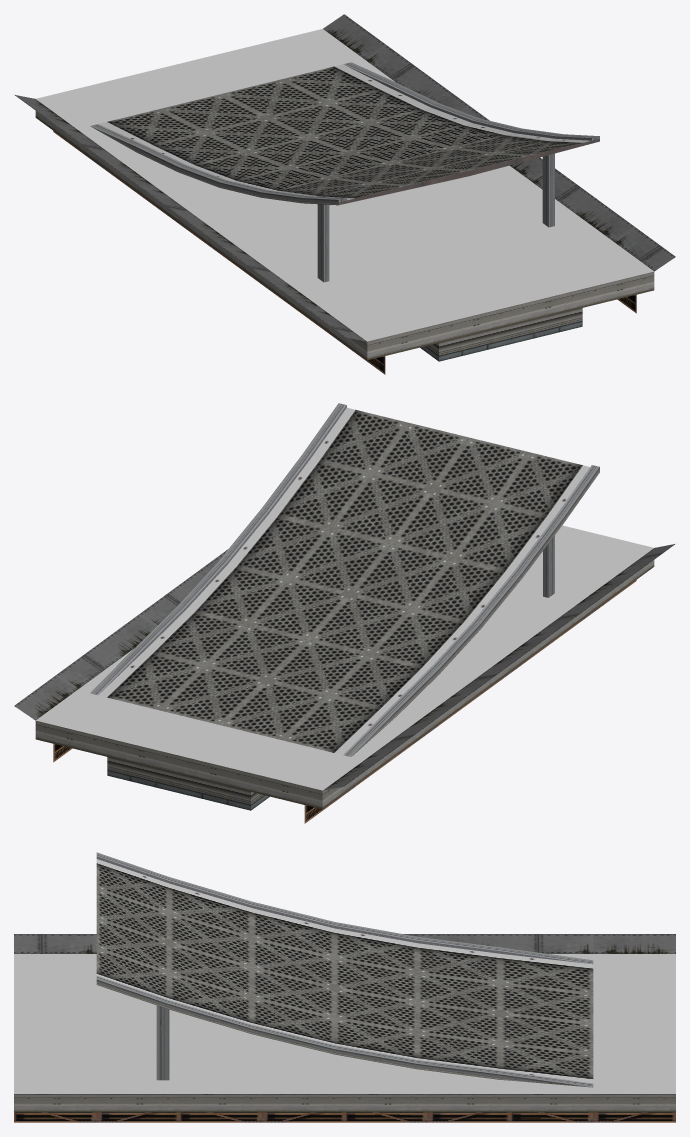
Rendered from Jump01.fbx.
The picture shows the model from 3 angles, top to bottom: view 1: azimuth 30°, elevation 25°; view 2: azimuth 150°, elevation 25°; view 3: azimuth 270°, elevation 25°; orthographic projection.
Visible parts, largest first — view 1: Empty_Mesh; view 2: Empty_Mesh; view 3: Empty_Mesh.
Boxes of the visible parts, x1=… form: Empty_Mesh: x1=15, y1=14, x2=675, y2=374; Empty_Mesh: x1=14, y1=403, x2=674, y2=823; Empty_Mesh: x1=14, y1=852, x2=675, y2=1122.
Bounding box in the file's own units: 18.4 × 7.76 × 32.
